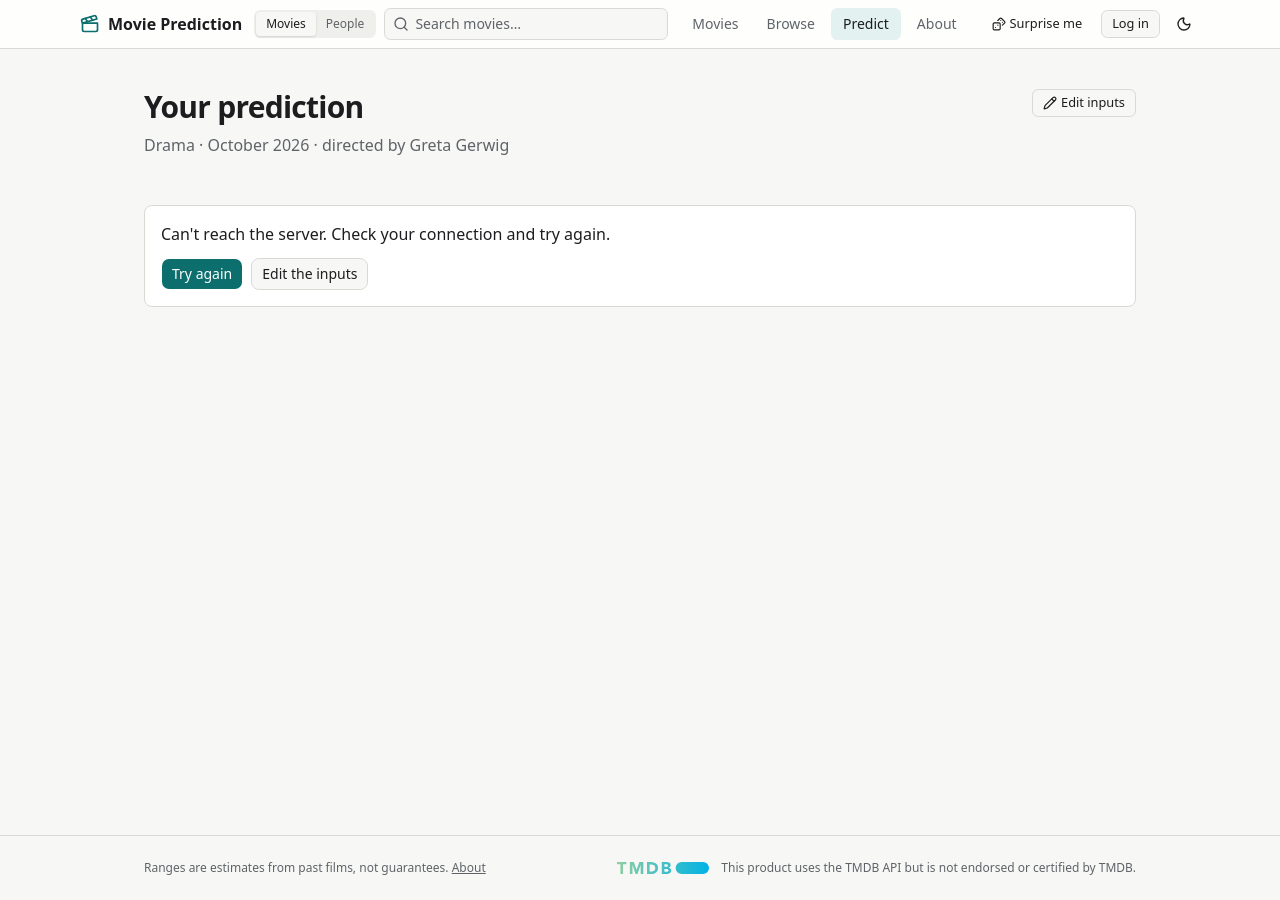
Test: when things go wrong › a network failure offers a retry that works
expect the message shows "Can't reach the server. Check your connection and try again.": met, box [161,223,610,245]
Step 1. Click the button "Try again" → (202, 274), box [161,258,243,290]
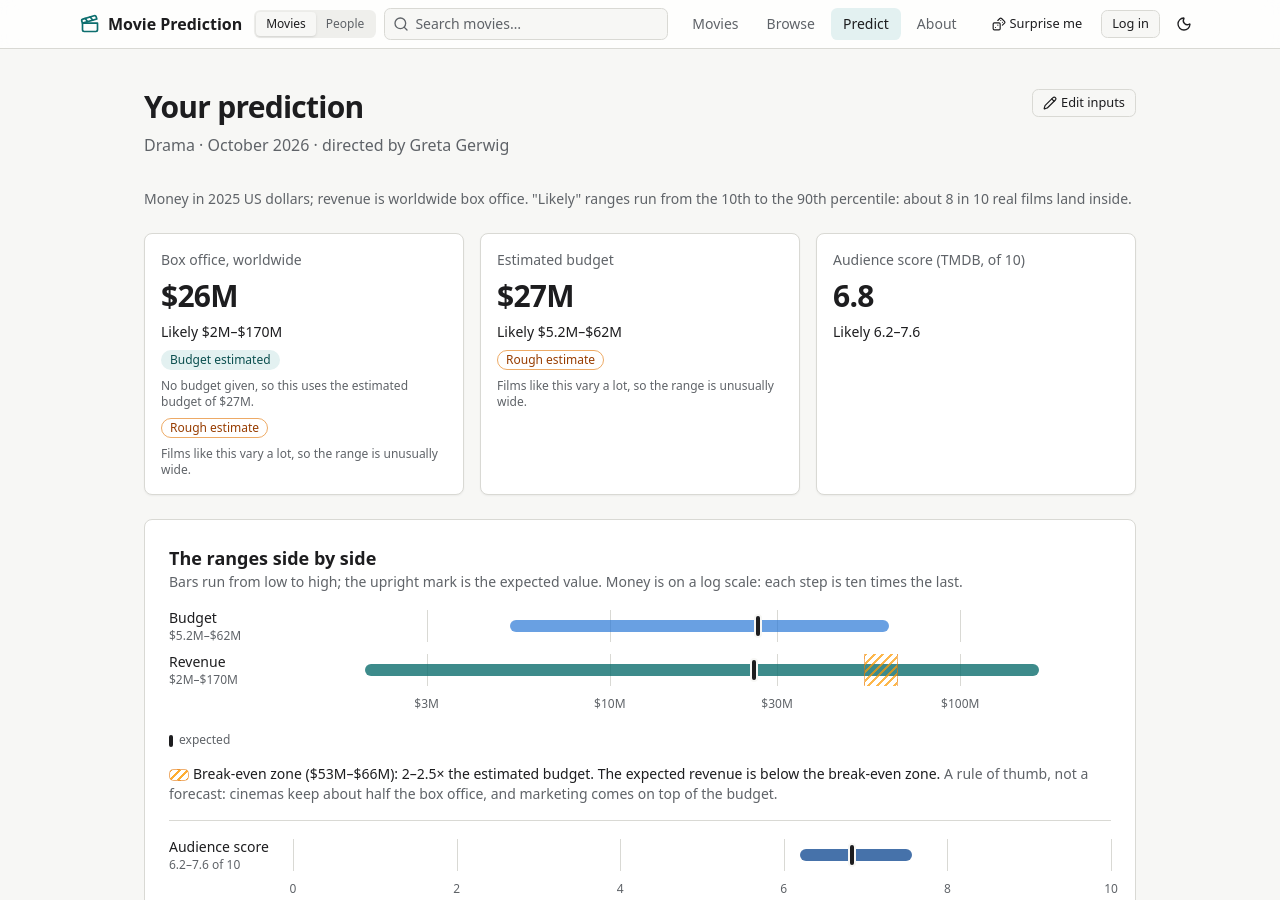
expect the element with test id "card-revenue" shows "$26M": met, box [161,275,238,316]
